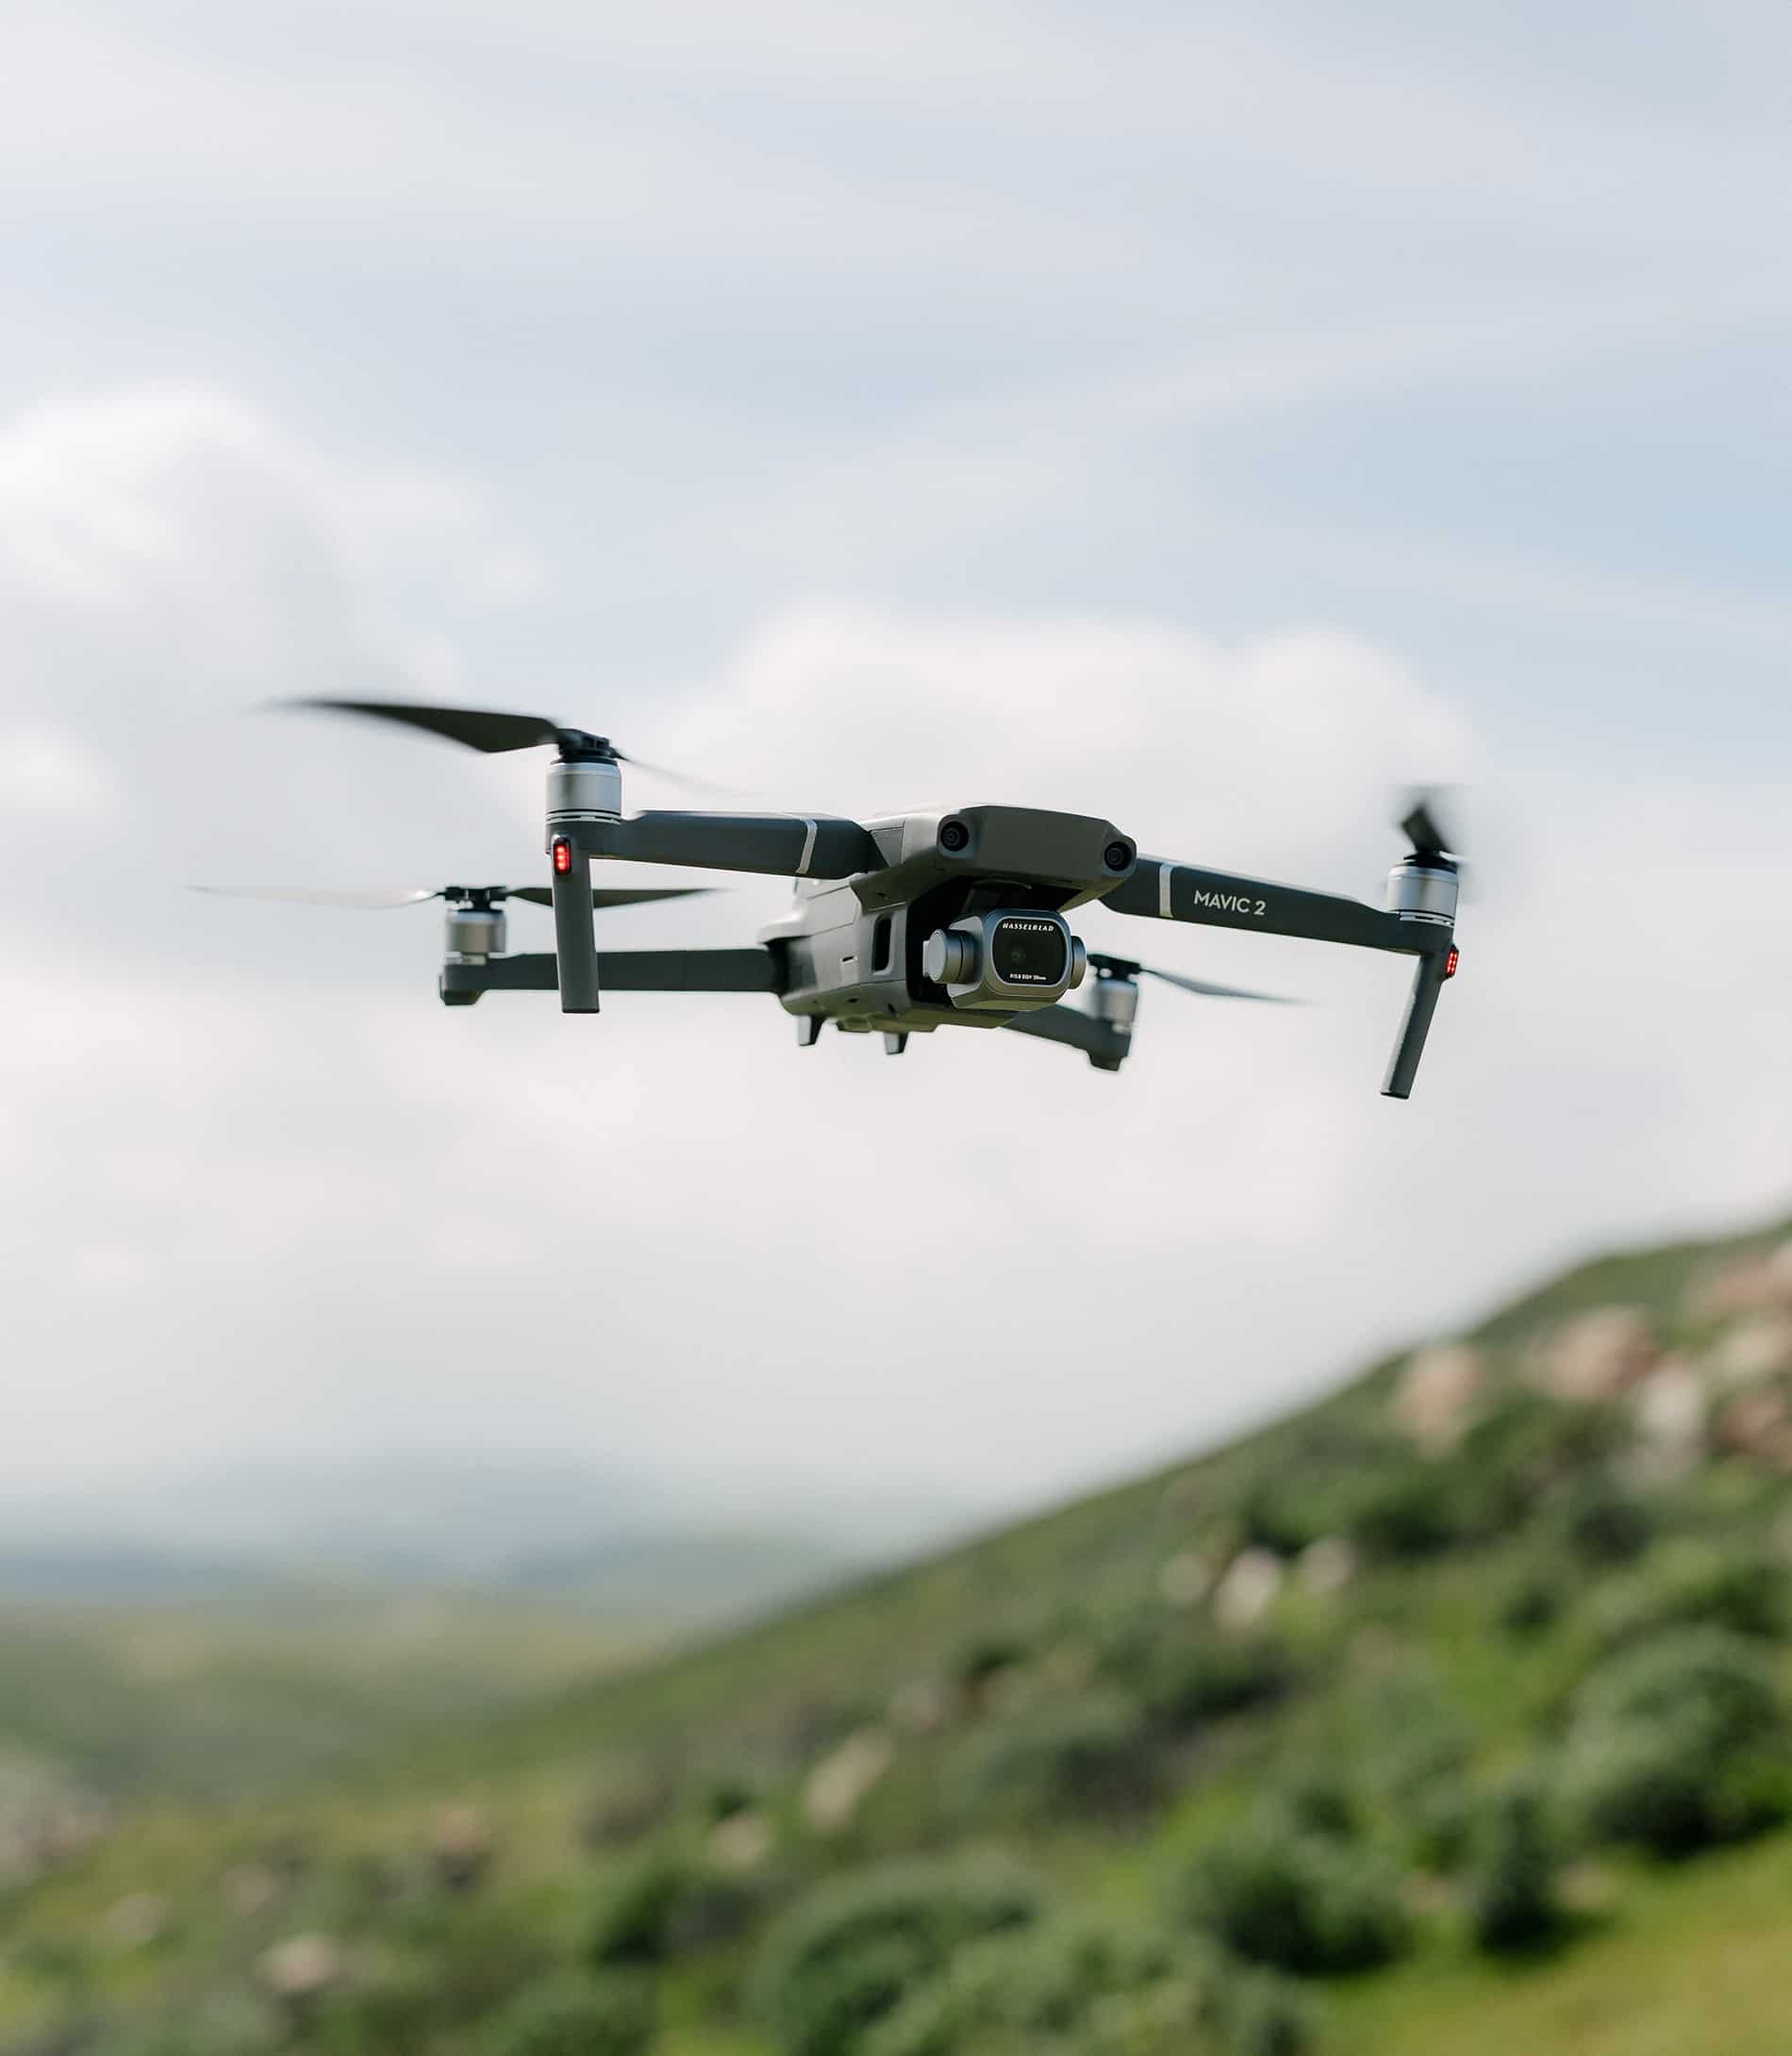drone: (213, 696, 1498, 1107)
